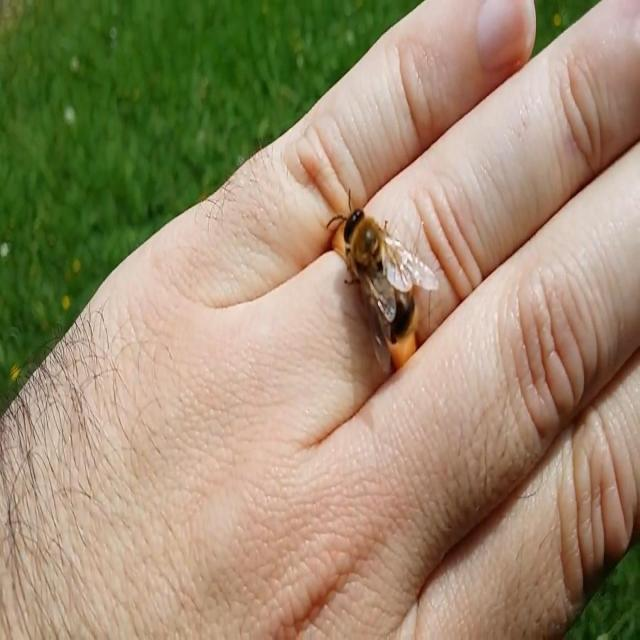honeybee: (339, 201, 434, 362)
